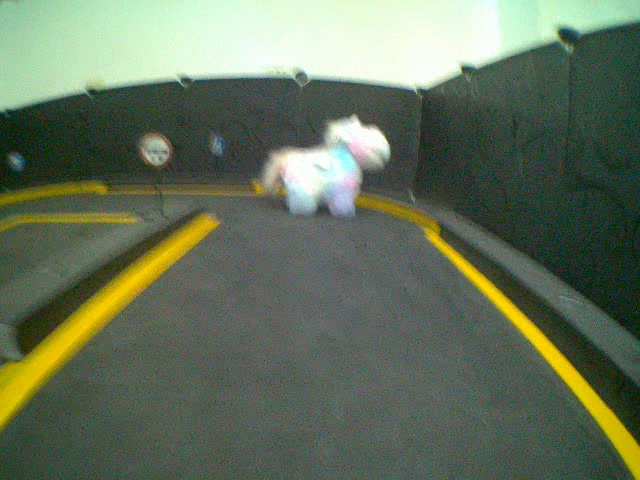unicorn: (264, 116, 388, 223)
